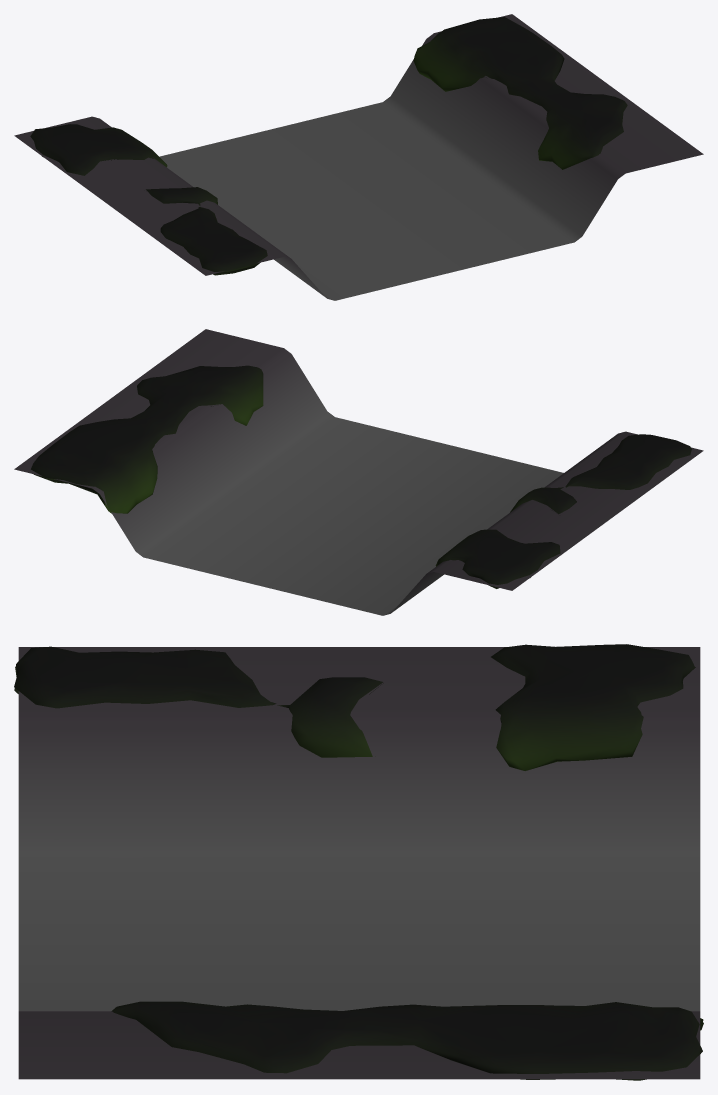
File: SM_Sewer_Ground_01 (1).fbx
3 renders of one model, top to bottom at view 1: azimuth 30°, elevation 25°; view 2: azimuth 150°, elevation 25°; view 3: azimuth 270°, elevation 25°, orthographic. The views are drawn at different scales.
Visible parts, largest first — view 1: transform10; view 2: transform10; view 3: transform10.
Boxes of the visible parts, box(x1,y1,x2,y2) form: transform10: box(14, 14, 703, 300); transform10: box(14, 329, 703, 615); transform10: box(14, 644, 703, 1080).
Size of the model in its own units: 600 by 73.15 by 405.
